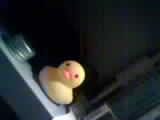duck: (36, 48, 92, 103)
